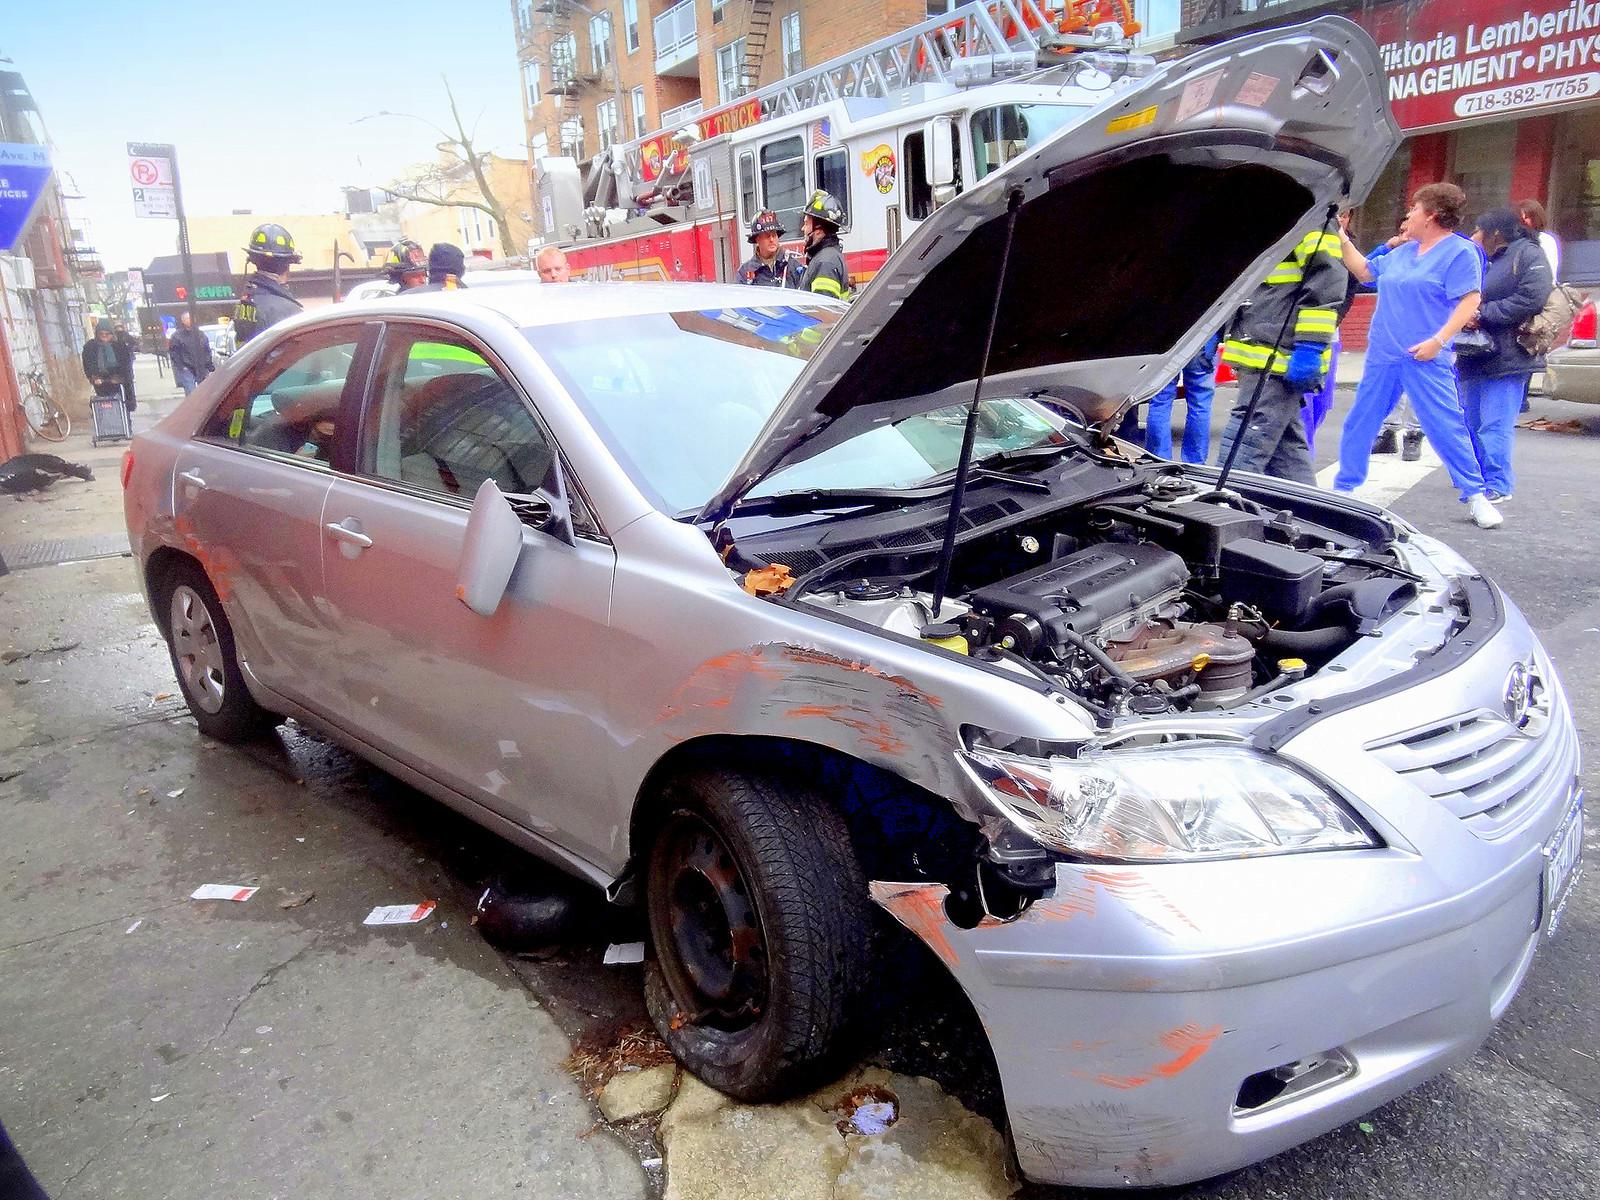fender-dent: (637, 620, 1063, 1003)
front-bumper-dent: (1005, 866, 1487, 1186)
